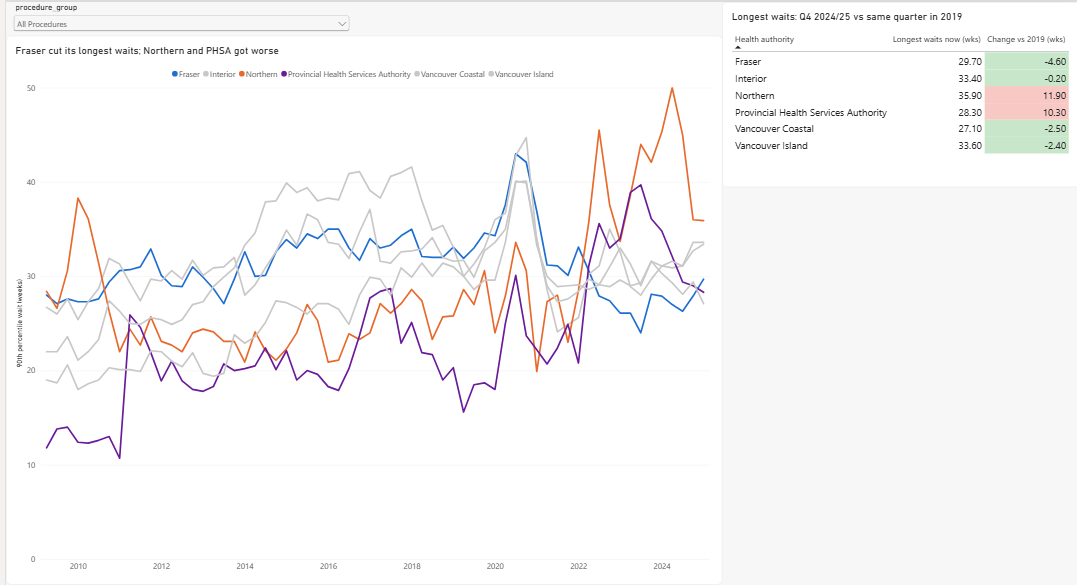

The dashboard page shown, as its layout file describes it:
{"tool":"powerbi","page":{"name":"Health Authorities","canvas":[1920,1080],"ordinal":1},"visuals":[{"type":"slicer","fields":{"Values":["HA.procedure_group"]},"box":[8.9,0,607.5,82.3],"z":0},{"type":"lineChart","title":"Fraser cut its longest waits; Northern and PHSA got worse","fields":{"Category":["HA.quarter_start"],"Series":["HA.health_authority"],"Y":["_Measures.P90 Wait (wks)"]},"box":[0,60.1,1275.1,976.9],"z":1},{"type":"tableEx","title":"Longest waits: Q4 2024/25 vs same quarter in 2019","fields":{"Values":["HA.health_authority","_Measures.P90 Wait (wks)","_Measures.P90 Change vs 2019 (wks)"]},"box":[1275.1,0,645.3,329.3],"z":2}]}

Visuals, with their boxes on the page's 1920x1080 design canvas (x1, y1, x2, y2). These are canvas units, not pixel positions in the 1077x585 screenshot, which may show the page scaled, cropped or inside an application window:
slicer - HA.procedure_group: [9, 0, 616, 82]
"Fraser cut its longest waits; Northern and PHSA got worse" lineChart: [0, 60, 1275, 1037]
"Longest waits: Q4 2024/25 vs same quarter in 2019" tableEx: [1275, 0, 1920, 329]
